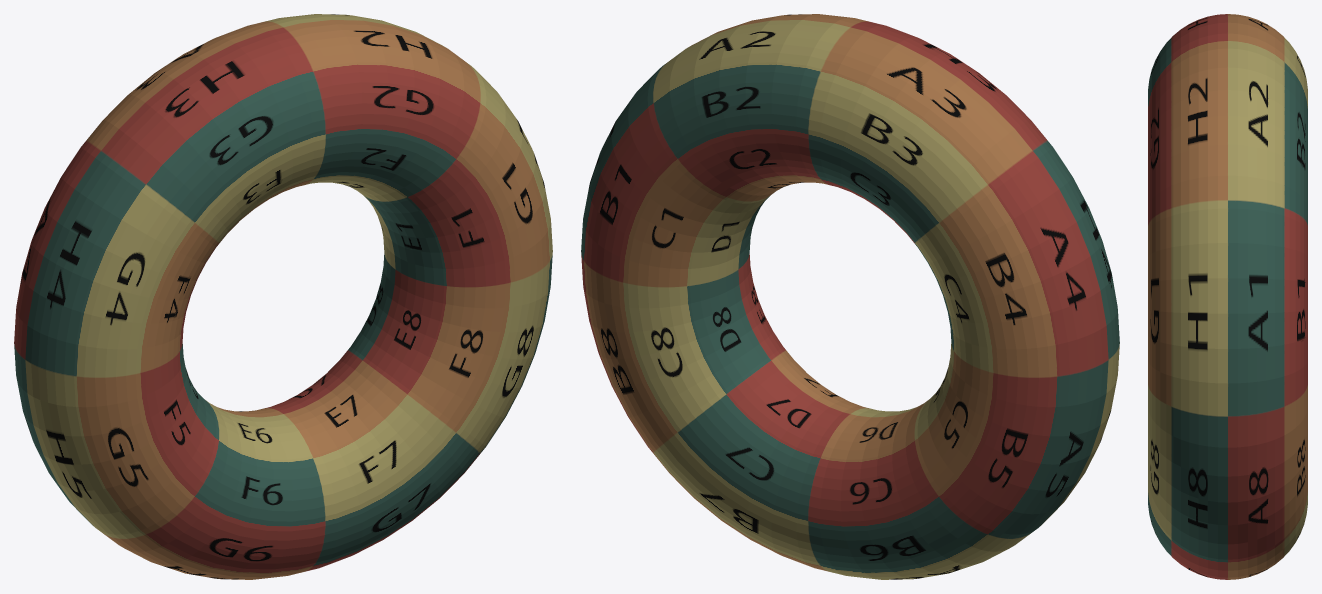
The model's file is texture_torus_R21_r28.glb.
The picture shows the model from 3 angles, left to right: view 1: azimuth 30°, elevation 25°; view 2: azimuth 150°, elevation 25°; view 3: azimuth 270°, elevation 25°; orthographic projection. The views are drawn at different scales.
Parts seen in each view (by area): view 1: world; view 2: world; view 3: world.
Part boxes in pixels (bbox=[...]): world: bbox=[14, 14, 552, 579]; world: bbox=[581, 14, 1119, 579]; world: bbox=[1148, 14, 1307, 579].
Bounding box in the file's own units: 33.47 × 33.4 × 9.45.
Materials: 1 (1 with a texture image).
